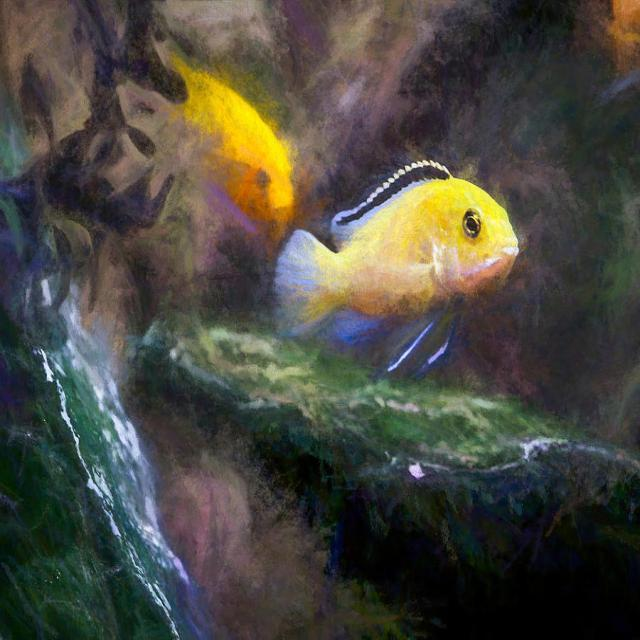YellowCichlid: (284, 164, 524, 369)
